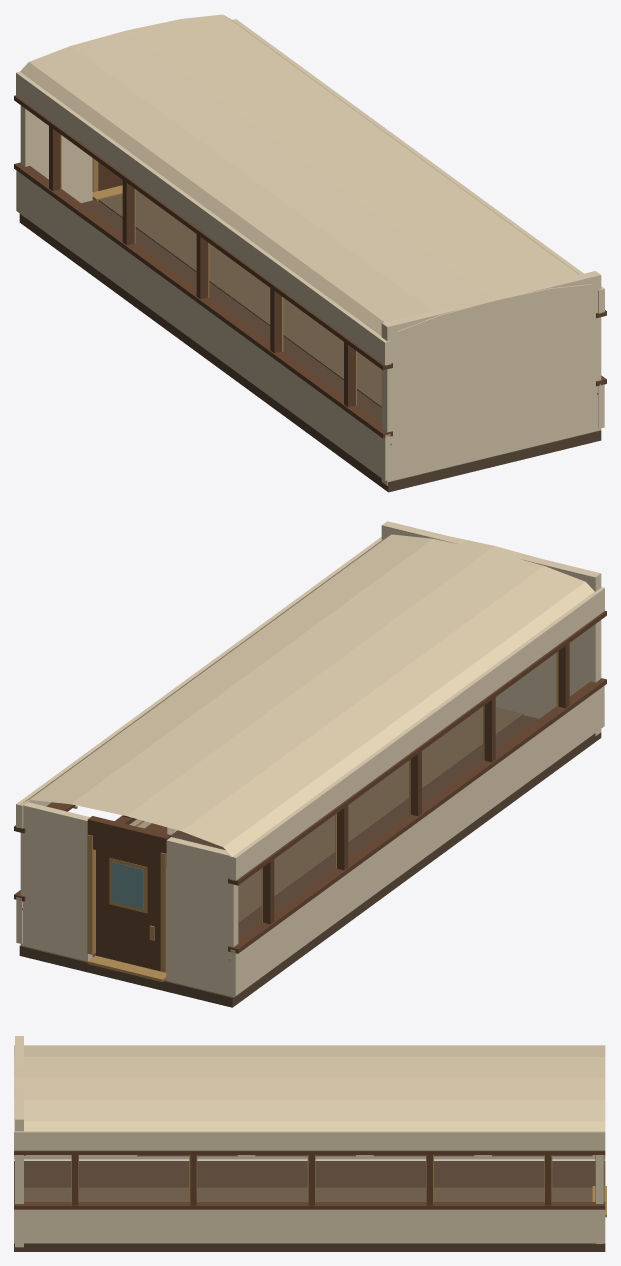
Rendered from carriage_classic.glb.
3 renders of one model, top to bottom at view 1: azimuth 30°, elevation 25°; view 2: azimuth 150°, elevation 25°; view 3: azimuth 270°, elevation 25°, orthographic. The views are drawn at different scales.
Parts seen in each view (by area): view 1: Faceted curved ceiling, Closed end wall, Lower side wall, Upper side wall (×2), Full width floor, Open aisle runner, Continuous window sill, Window pillar (×5), Vestibule side panel, End wall roof cap, Window header; view 2: Faceted curved ceiling, Vestibule side panel (×2), Lower side wall, Upper side wall (×2), Full width floor, Open aisle runner, Continuous window sill, Sliding door panel, Closed end wall, Window pillar (×5), Window header, Vestibule lintel (+5 smaller); view 3: Faceted curved ceiling, Lower side wall (×2), Full width floor, Upper side wall, Open aisle runner, Continuous window sill, Window header, Window pillar (×5), End wall roof cap, Closed end wall, Vestibule side panel.
Part boxes in pixels (bbox=[...]): Faceted curved ceiling: bbox=[20, 14, 591, 341]; Closed end wall: bbox=[381, 280, 601, 485]; Lower side wall: bbox=[16, 170, 390, 480]; Upper side wall (×2): bbox=[16, 19, 604, 365]; Full width floor: bbox=[19, 199, 601, 492]; Open aisle runner: bbox=[98, 190, 381, 407]; Continuous window sill: bbox=[14, 162, 392, 438]; Window pillar (×5): bbox=[49, 126, 355, 407]; Vestibule side panel: bbox=[20, 105, 92, 217]; End wall roof cap: bbox=[381, 271, 601, 337]; Window header: bbox=[14, 95, 392, 370]; Faceted curved ceiling: bbox=[22, 534, 594, 856]; Vestibule side panel (×2): bbox=[20, 802, 238, 996]; Lower side wall: bbox=[230, 686, 604, 996]; Upper side wall (×2): bbox=[16, 537, 604, 880]; Full width floor: bbox=[19, 715, 601, 1007]; Open aisle runner: bbox=[238, 706, 523, 923]; Continuous window sill: bbox=[228, 678, 606, 953]; Sliding door panel: bbox=[96, 850, 160, 971]; Closed end wall: bbox=[381, 531, 601, 736]; Window pillar (×5): bbox=[263, 643, 569, 924]; Window header: bbox=[228, 610, 606, 885]; Vestibule lintel: bbox=[87, 816, 171, 866]; Faceted curved ceiling: bbox=[14, 1045, 605, 1130]; Lower side wall (×2): bbox=[14, 1155, 605, 1243]; Full width floor: bbox=[14, 1160, 605, 1251]; Upper side wall: bbox=[14, 1131, 605, 1150]; Open aisle runner: bbox=[24, 1187, 592, 1201]; Continuous window sill: bbox=[14, 1202, 605, 1209]; Window header: bbox=[14, 1150, 605, 1154]; Window pillar (×5): bbox=[72, 1155, 551, 1205]; End wall roof cap: bbox=[15, 1036, 23, 1128]; Closed end wall: bbox=[15, 1124, 23, 1247]; Vestibule side panel: bbox=[596, 1155, 603, 1244].
Size of the model in its own units: 5.26 by 3.72 by 15.04.
